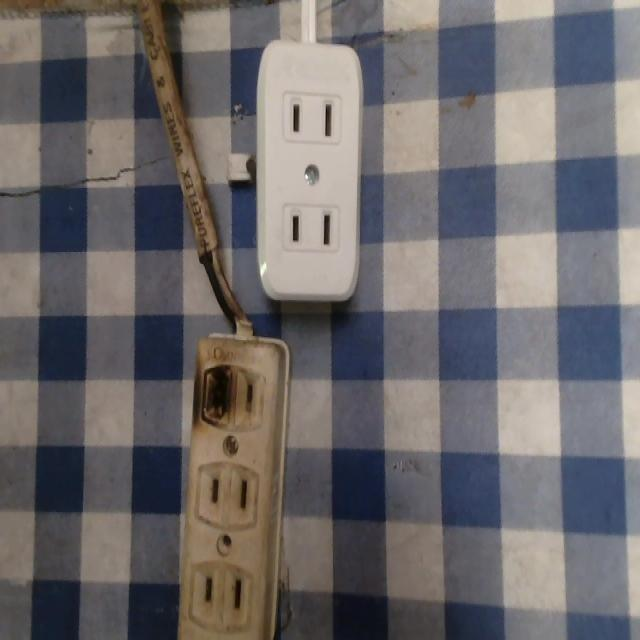-: (197, 355, 242, 432)
